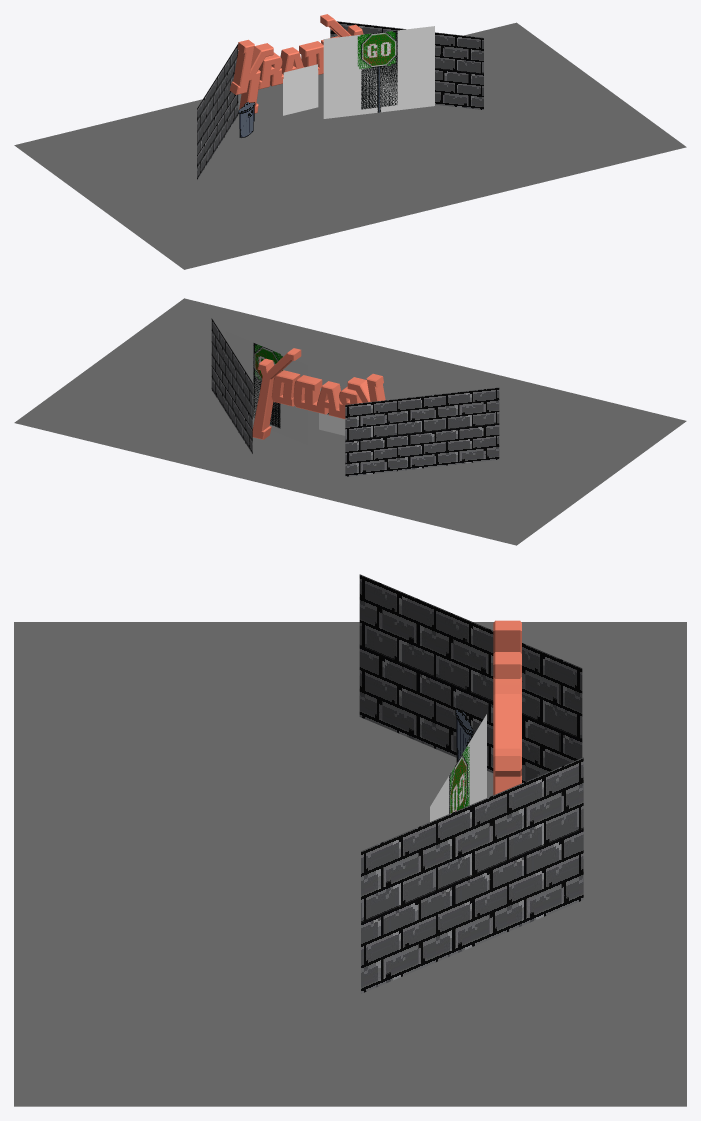
File: kraddy_intro.dae
3 views of the same model, one above another, from view 1: azimuth 30°, elevation 25°; view 2: azimuth 150°, elevation 25°; view 3: azimuth 270°, elevation 25° (orthographic). The views are drawn at different scales.
Parts seen in each view (by area): view 1: Ground, GoSign, StopSign, RightWall, Logo, LeftWall-Node, TitleBox, Plane_005; view 2: Ground, LeftWall-Node, Logo, RightWall, GoSign, StopSign, StartBox; view 3: Ground, RightWall, LeftWall-Node, Logo, GoSign, StopSign.
Boxes of the visible parts, bbox=[...] form: Ground: bbox=[14, 22, 686, 269]; GoSign: bbox=[323, 26, 434, 118]; StopSign: bbox=[323, 26, 434, 117]; RightWall: bbox=[330, 21, 483, 109]; Logo: bbox=[229, 14, 363, 113]; LeftWall-Node: bbox=[197, 44, 238, 179]; TitleBox: bbox=[283, 64, 317, 108]; Plane_005: bbox=[238, 102, 255, 137]; Ground: bbox=[14, 298, 686, 545]; LeftWall-Node: bbox=[345, 387, 499, 476]; Logo: bbox=[252, 348, 385, 439]; RightWall: bbox=[211, 318, 252, 453]; GoSign: bbox=[233, 335, 308, 444]; StopSign: bbox=[225, 331, 305, 436]; StartBox: bbox=[319, 413, 345, 435]; Ground: bbox=[14, 622, 686, 1106]; RightWall: bbox=[361, 757, 583, 993]; LeftWall-Node: bbox=[359, 574, 582, 782]; Logo: bbox=[493, 620, 521, 795]; GoSign: bbox=[430, 717, 486, 821]; StopSign: bbox=[430, 714, 486, 821].
Bounding box in the file's own units: 214 × 126 × 49.15.
